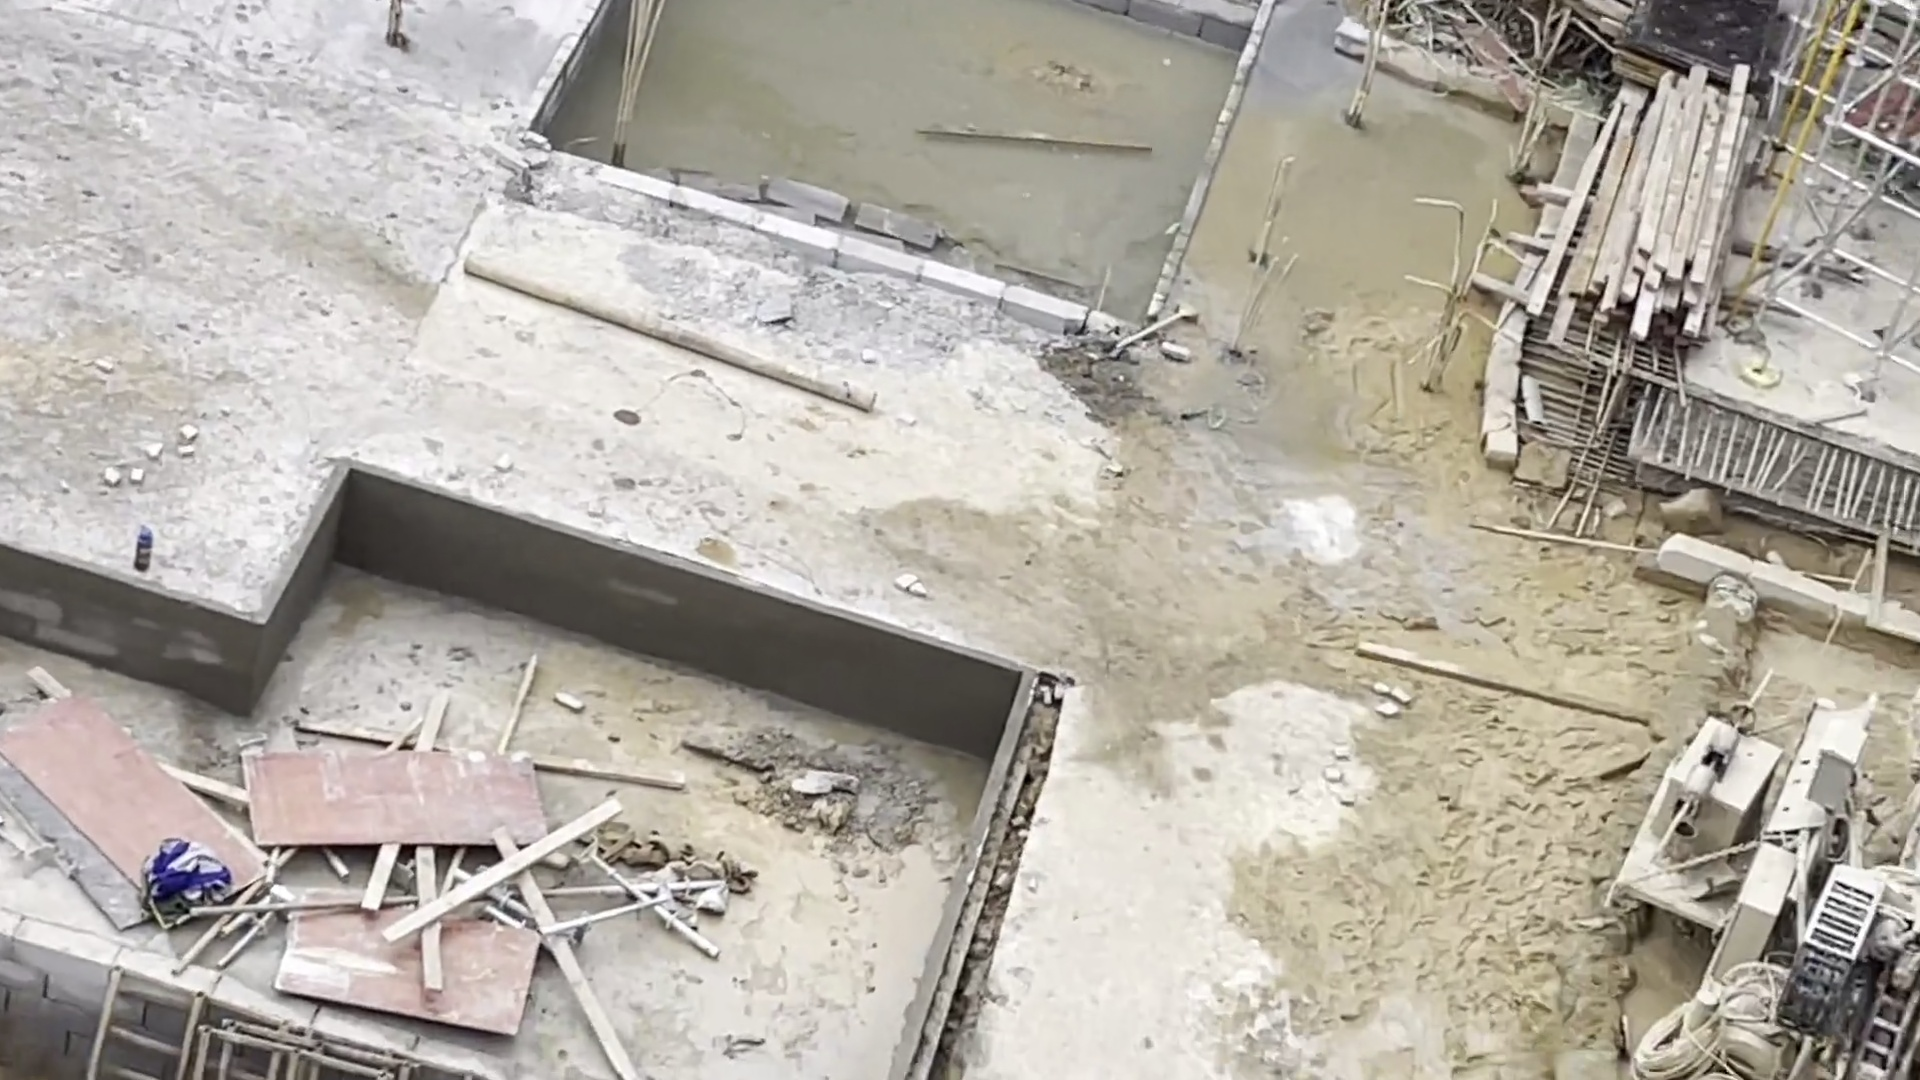wood: (1534, 61, 1771, 349)
